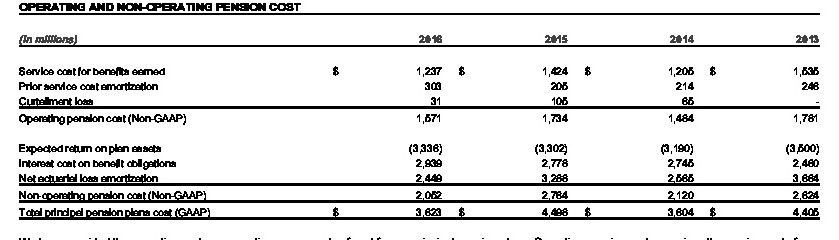table: (0, 0, 839, 240)
